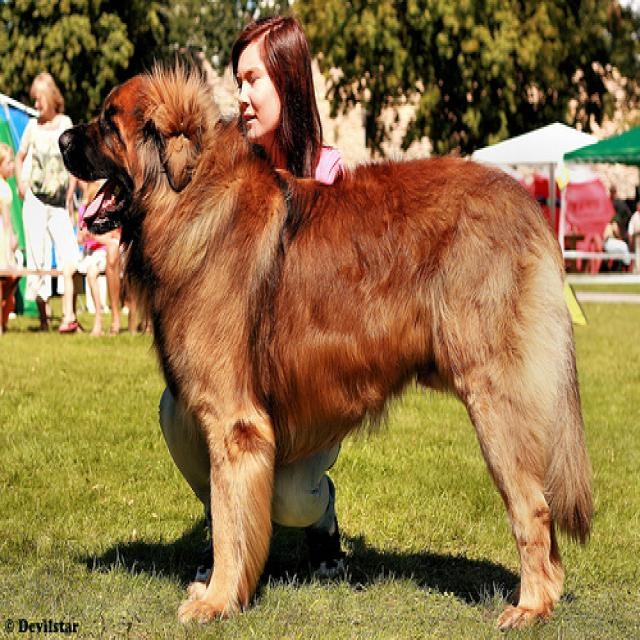dog-leonberger: (47, 60, 602, 634)
